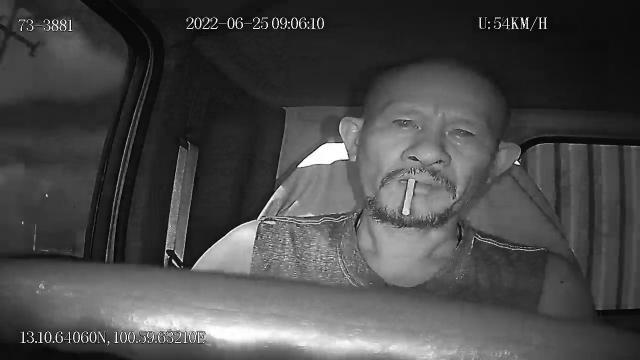SafeDriving: (441, 116, 481, 146), (386, 109, 426, 135)
Smoking: (402, 178, 416, 216)
